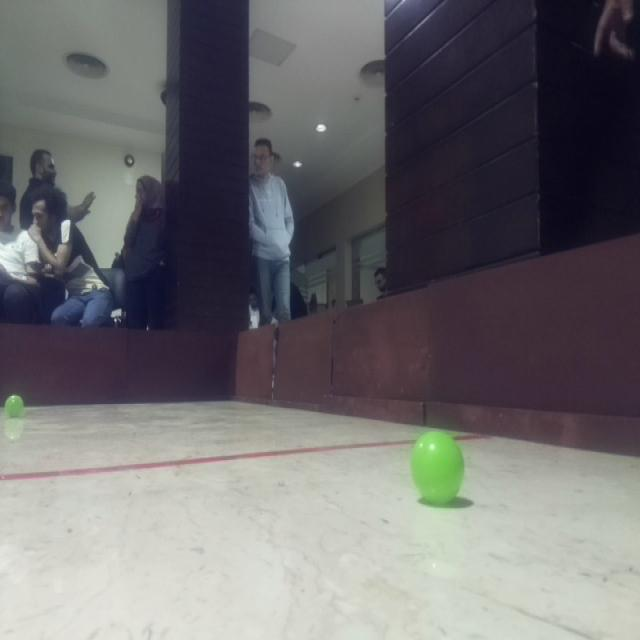ball: (410, 426, 468, 508), (3, 391, 30, 420)
